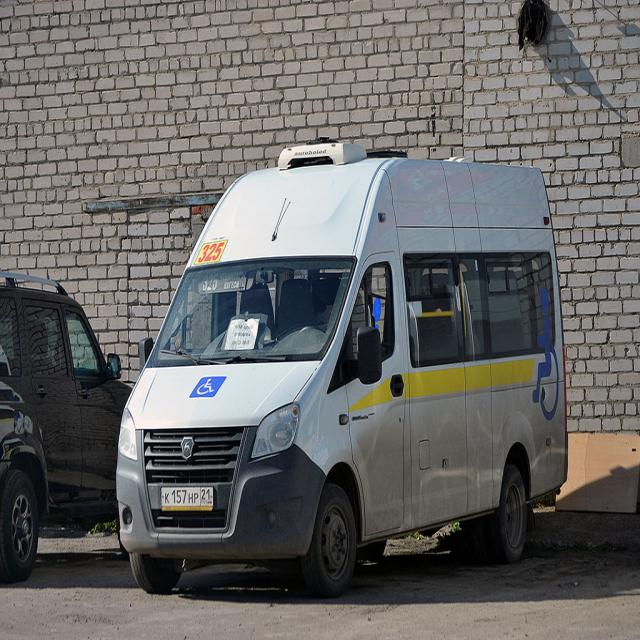number-of-bus: (196, 242, 228, 262), (202, 271, 221, 293)
